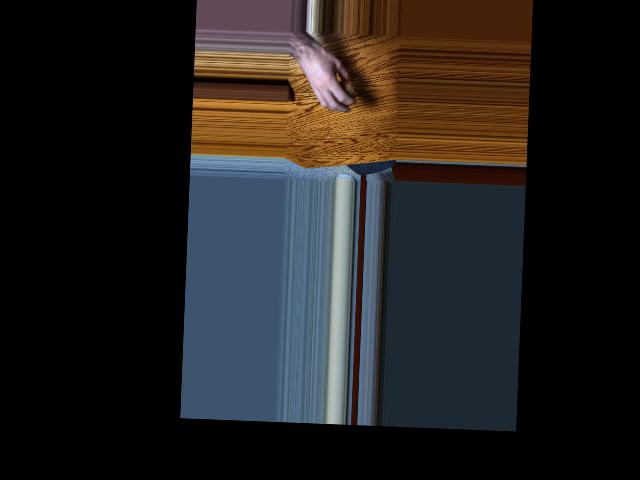onion: (334, 79, 355, 107)
